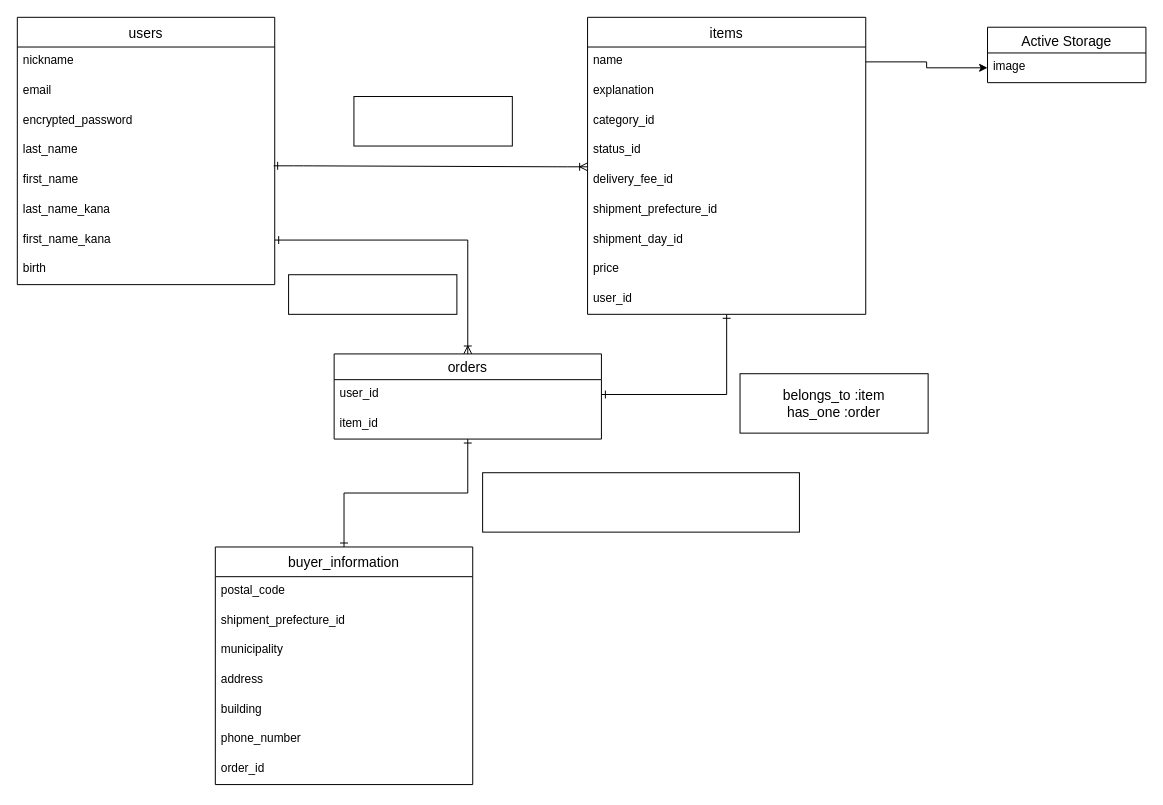
Some shapes in this 1163 by 805 pixel diagram are drawn without their labels. The shapes that lost their labels are listed below. From the top down, each one's centre as x and y in pixels, then its label:
At pixel 432 121: "belongs_to :user has_many :items".
At pixel 372 294: "belongs_to :user has_many :orders".
At pixel 640 502: "belongs_to : order has_one : buyer_information".
